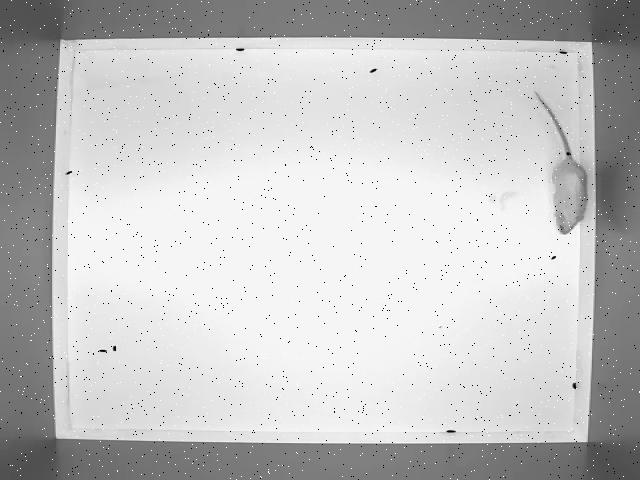Tikus: (522, 88, 598, 238)
